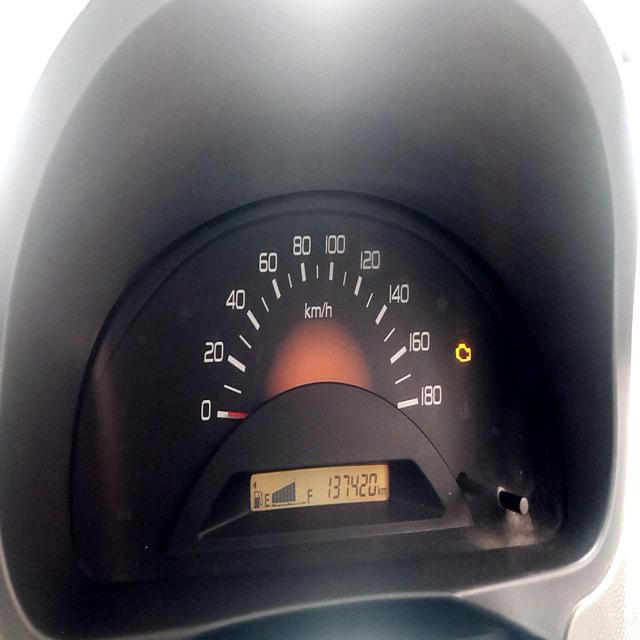odometer: (327, 467, 378, 502)
